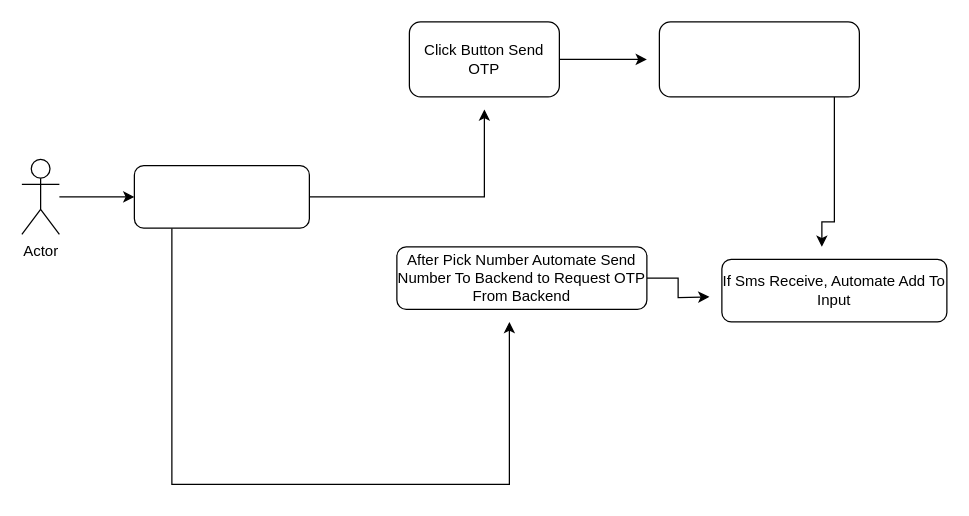
The diagram is 969 pixels wide and 516 high, and some of its shapes have lost their labels. The shapes that lost their labels are listed below. From the top down, each one's centre as x and y in pixels, then its label:
the point at 758,59: Send To Backend, to send OTP from Number Selected
the point at 221,196: Pick Number by Phone Auth
